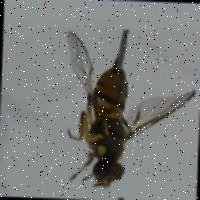Oriental-fruit-fly: (40, 27, 200, 200)
